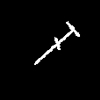double_crochet: (34, 22, 79, 64)
